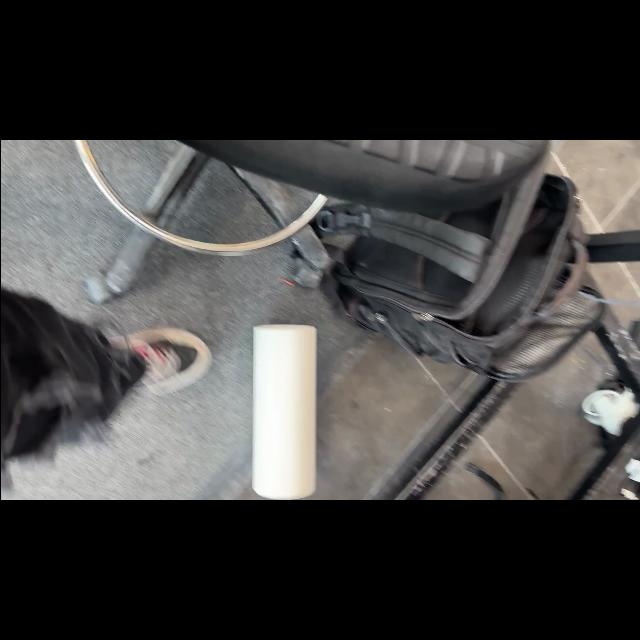CORAL: (250, 323, 318, 499)
